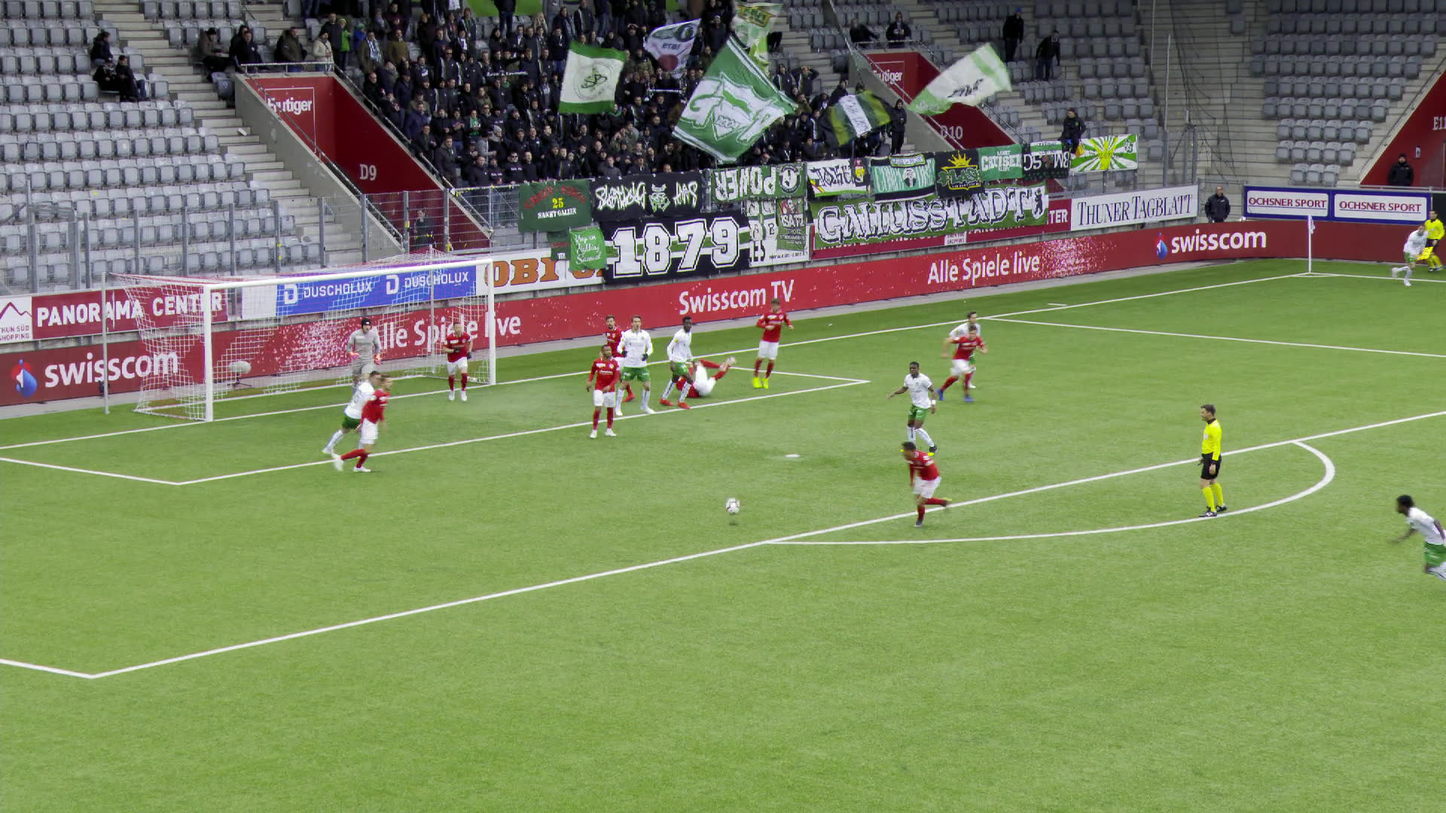ball: (725, 498, 738, 515)
player: (343, 371, 399, 474), (325, 370, 383, 459), (904, 439, 959, 525), (885, 361, 935, 455), (614, 316, 660, 416), (1396, 491, 1445, 583), (742, 301, 792, 389), (660, 315, 697, 410), (585, 343, 621, 439), (596, 312, 634, 402), (937, 325, 980, 403), (346, 315, 381, 409), (672, 347, 730, 399), (944, 310, 980, 389), (1382, 224, 1426, 288), (440, 324, 472, 403)
referee: (1196, 403, 1228, 521), (1416, 206, 1440, 274)
